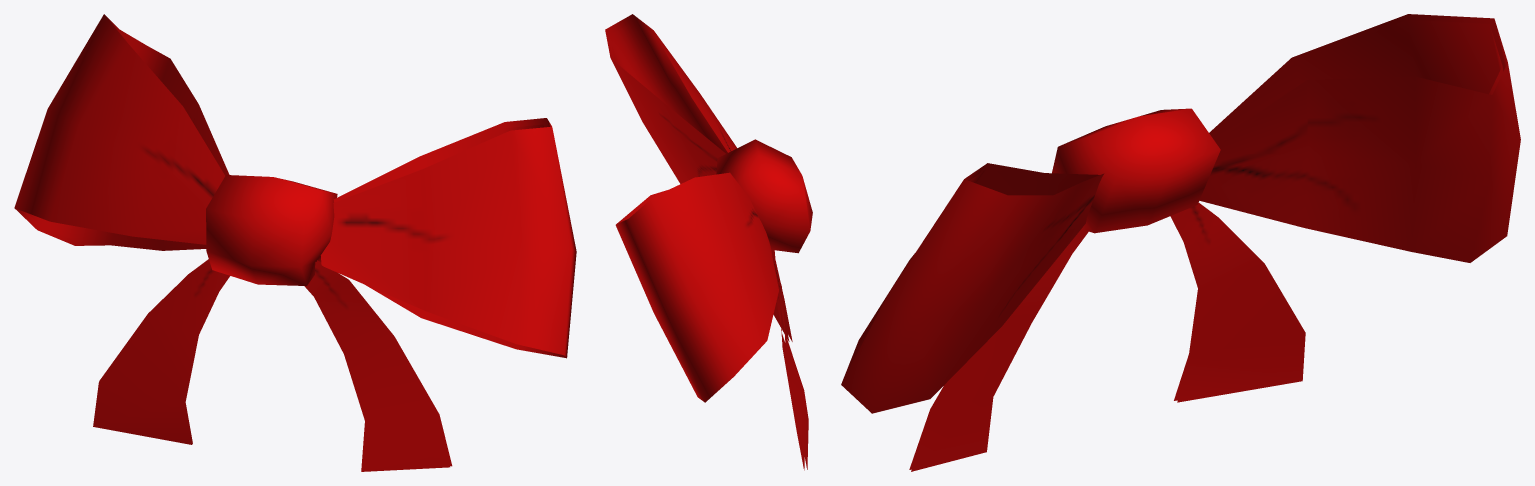
File: _headwear_012.fbx
3 renders of one model, left to right at view 1: azimuth 30°, elevation 25°; view 2: azimuth 150°, elevation 25°; view 3: azimuth 270°, elevation 25°, orthographic. The views are drawn at different scales.
Visible parts, largest first — view 1: f_headwear_012; view 2: f_headwear_012; view 3: f_headwear_012.
Part boxes in pixels (x1=…): f_headwear_012: x1=14, y1=14, x2=576, y2=471; f_headwear_012: x1=605, y1=14, x2=812, y2=470; f_headwear_012: x1=841, y1=14, x2=1520, y2=471.
Bounding box in the file's own units: 8.89 × 8.43 × 12.48.
